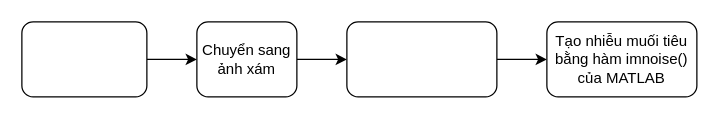
Image size: 719x119. Some labels were removed from this diagram. The box of each missing label's shape, as (x1, y1, x2, y2) in pixels:
Crop ảnh về kích thước không quá 256x256: (346, 21, 497, 97)
Đọc ảnh (màu hoặc xám): (21, 21, 147, 97)
